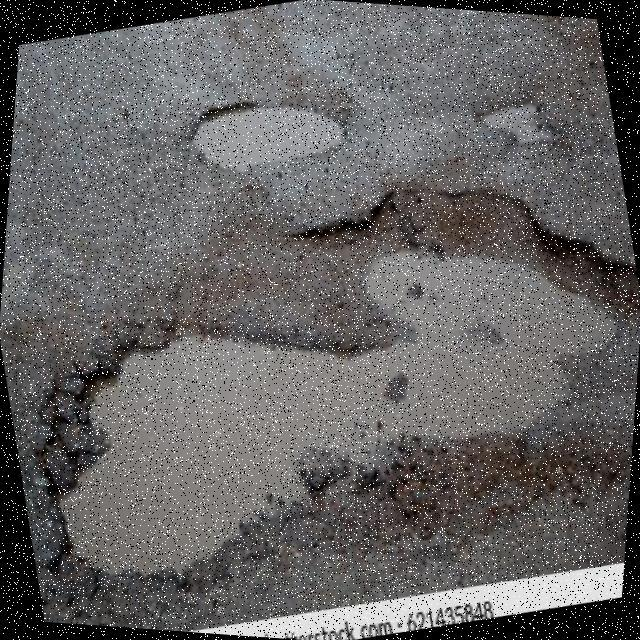Pothole: (57, 190, 640, 577), (192, 102, 343, 172)
